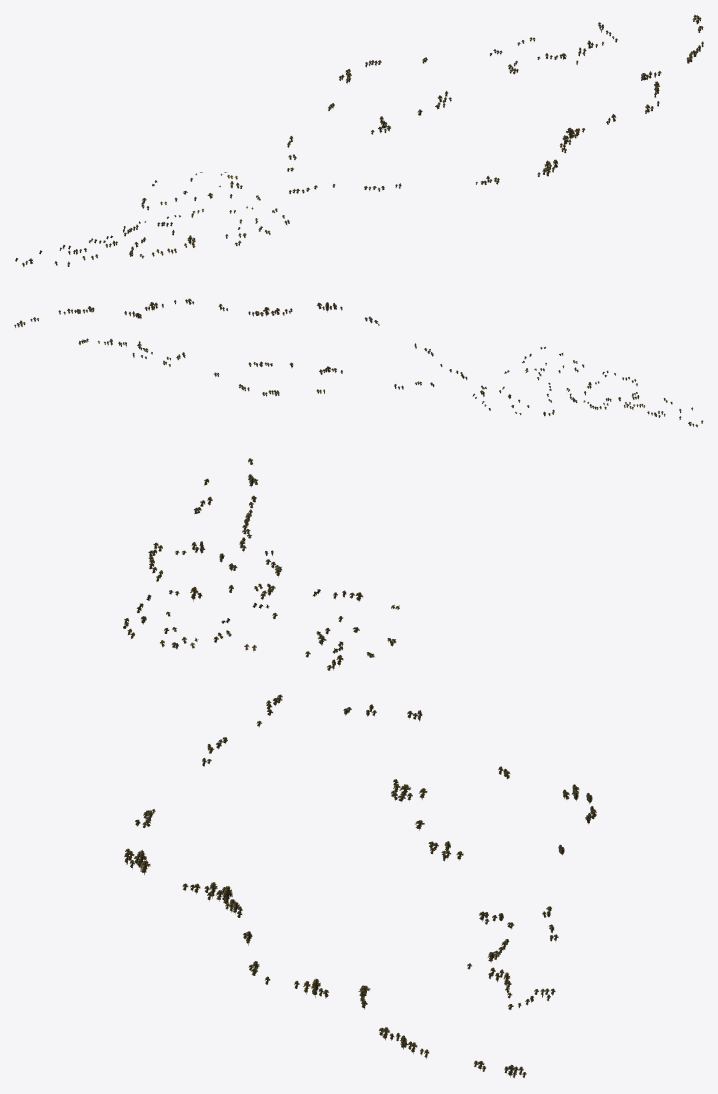
File: shu.FBX
The picture shows the model from 3 angles, top to bottom: view 1: azimuth 30°, elevation 25°; view 2: azimuth 150°, elevation 25°; view 3: azimuth 270°, elevation 25°; orthographic projection. The views are drawn at different scales.
Size of the model in its own units: 238 by 6.36 by 78.98.
